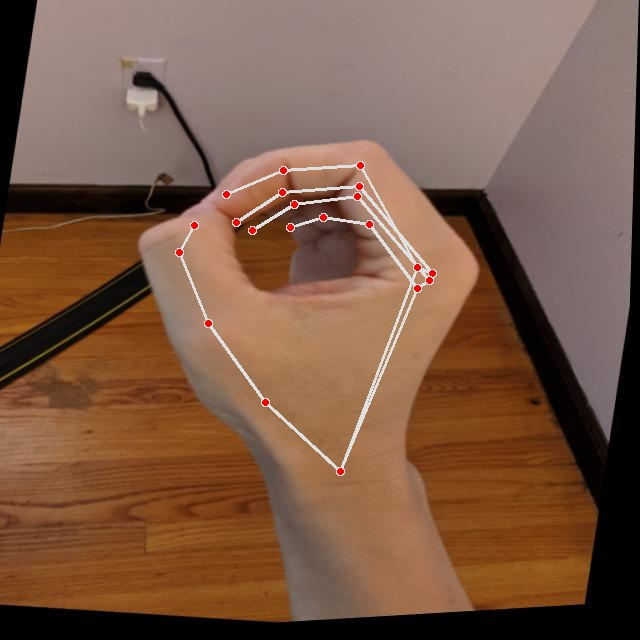O: (100, 106, 508, 497)
